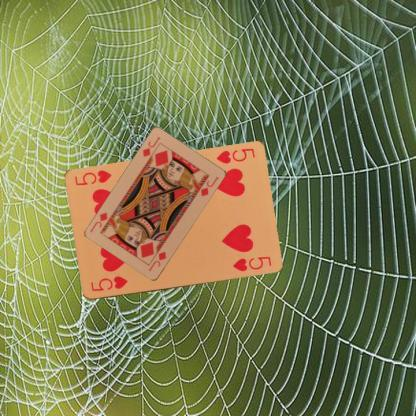5h: (88, 273, 129, 293), (213, 146, 256, 165)
Jd: (146, 249, 168, 273), (140, 135, 162, 158)
